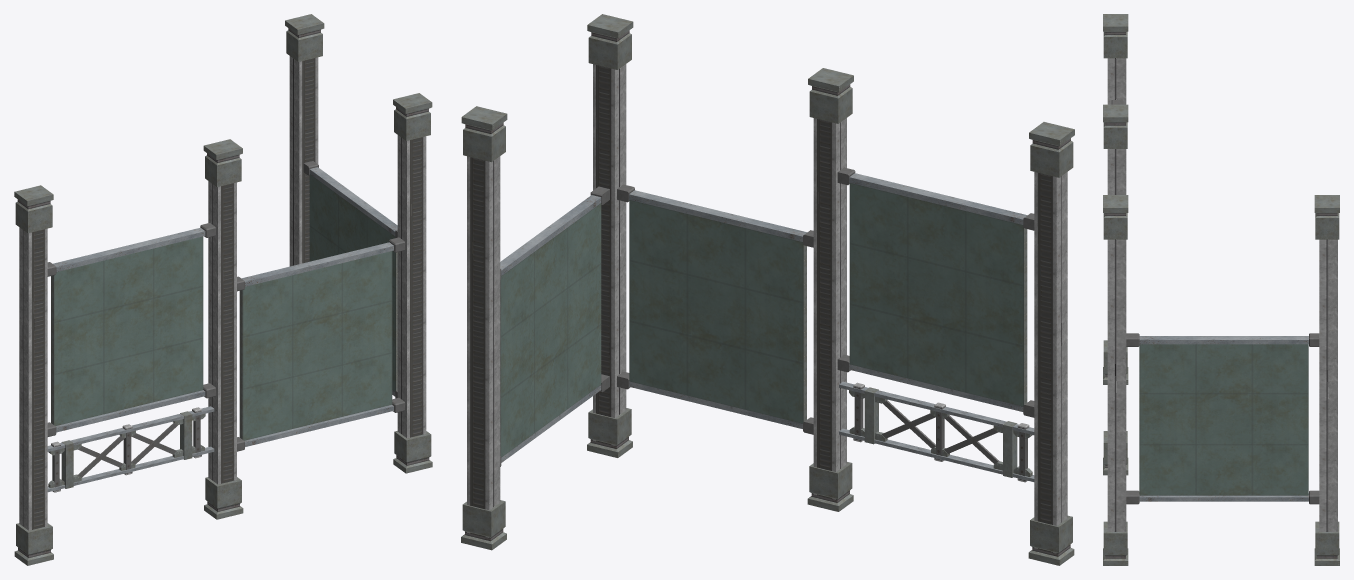
Rendered from Ob_ScafWallCorner2_RC.fbx.
3 views of the same model, side by side, from view 1: azimuth 30°, elevation 25°; view 2: azimuth 150°, elevation 25°; view 3: azimuth 270°, elevation 25° (orthographic). The views are drawn at different scales.
Parts seen in each view (by area): view 1: Ob_ScafWallCorner2_RC; view 2: Ob_ScafWallCorner2_RC; view 3: Ob_ScafWallCorner2_RC.
Boxes of the visible parts, box(x1,y1,x2,y2) form: Ob_ScafWallCorner2_RC: box(14, 14, 432, 565); Ob_ScafWallCorner2_RC: box(461, 14, 1074, 565); Ob_ScafWallCorner2_RC: box(1103, 14, 1339, 565).
Size of the model in its own units: 8373 by 7205 by 4320.
